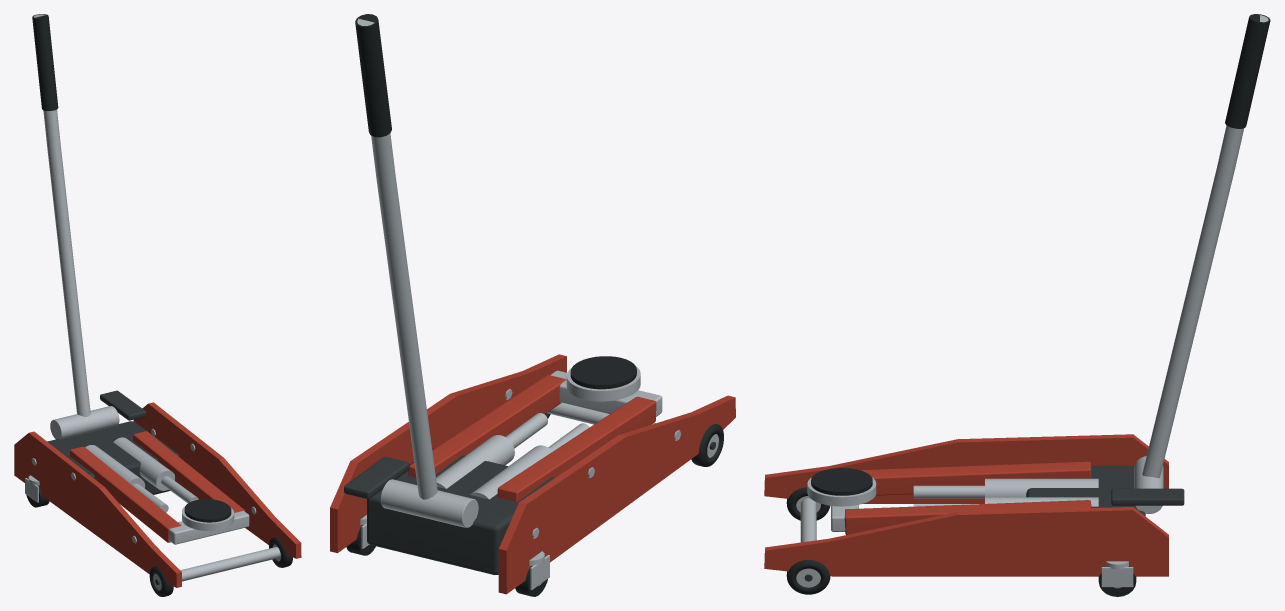
Rendered from garage-floor-jack.glb.
The picture shows the model from 3 angles, left to right: view 1: azimuth 30°, elevation 25°; view 2: azimuth 150°, elevation 25°; view 3: azimuth 270°, elevation 25°; orthographic projection. The views are drawn at different scales.
Visible parts, largest first — view 1: catalog_surface_RealismUV; view 2: catalog_surface_RealismUV; view 3: catalog_surface_RealismUV.
Part boxes in pixels (x1,y1,x2,y2): catalog_surface_RealismUV: [14, 14, 301, 596]; catalog_surface_RealismUV: [330, 14, 735, 596]; catalog_surface_RealismUV: [764, 14, 1270, 596].
Bounding box in the file's own units: 0.365 × 1.12 × 0.95.
